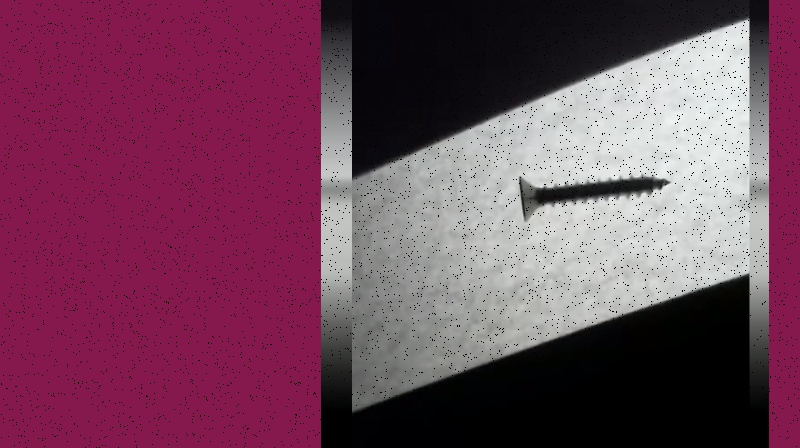S001: (516, 171, 671, 222)
